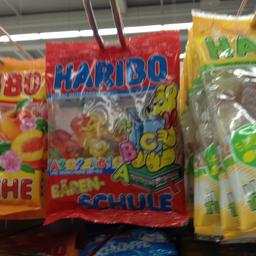candy: (41, 36, 186, 228), (183, 9, 255, 225), (0, 55, 48, 215)
